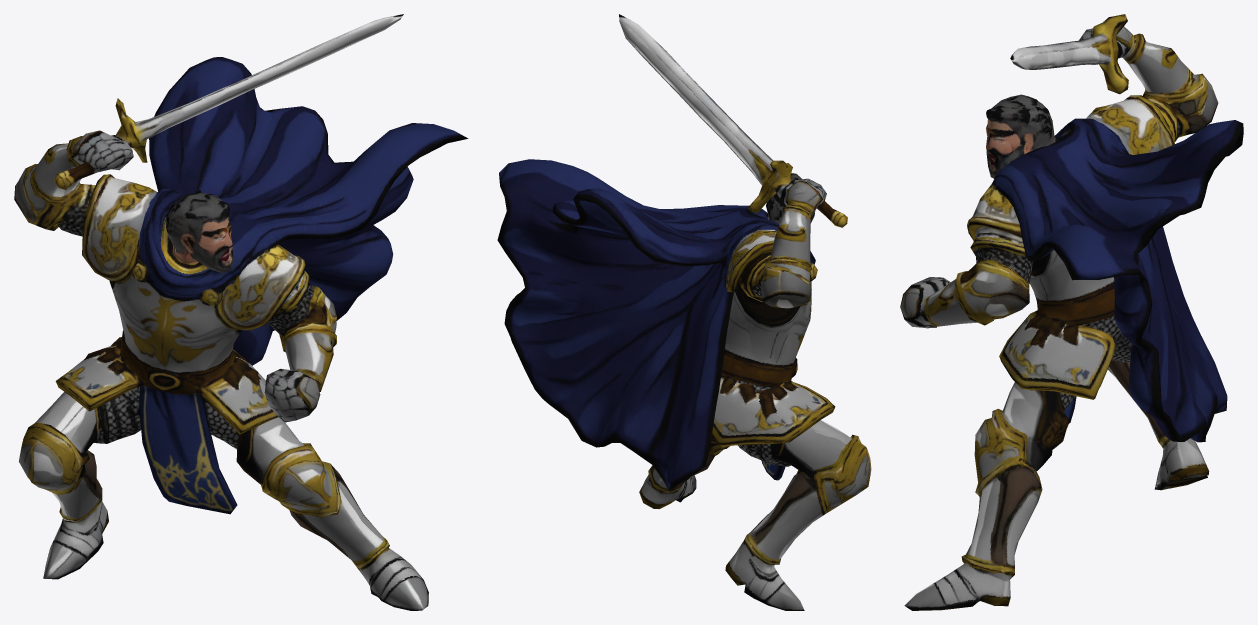
The model's file is knight_captain_strike.glb.
The picture shows the model from 3 angles, left to right: view 1: azimuth 30°, elevation 25°; view 2: azimuth 150°, elevation 25°; view 3: azimuth 270°, elevation 25°; orthographic projection. The views are drawn at different scales.
Visible parts, largest first — view 1: world; view 2: world; view 3: world.
Boxes of the visible parts, x1,y1,x2,y2 form: world: [14, 14, 468, 610]; world: [497, 14, 871, 610]; world: [900, 14, 1243, 610].
Size of the model in its own units: 0.8015 by 1 by 0.5486.
1 material, 1 textured.
